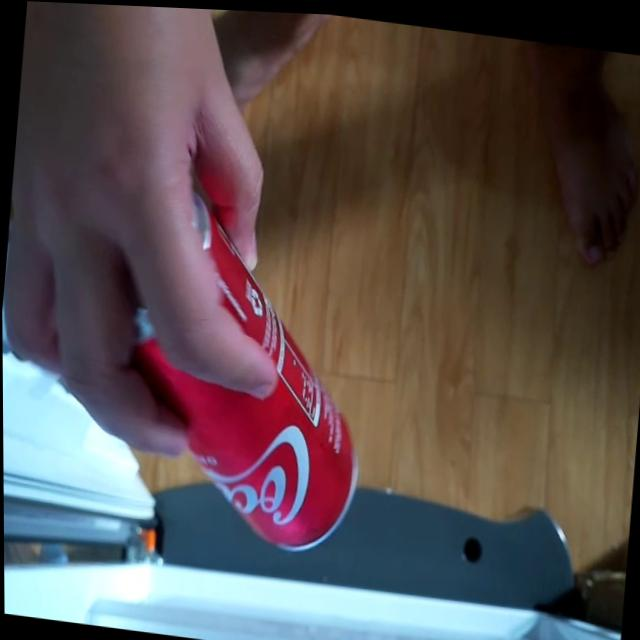coke: (97, 173, 378, 565)
